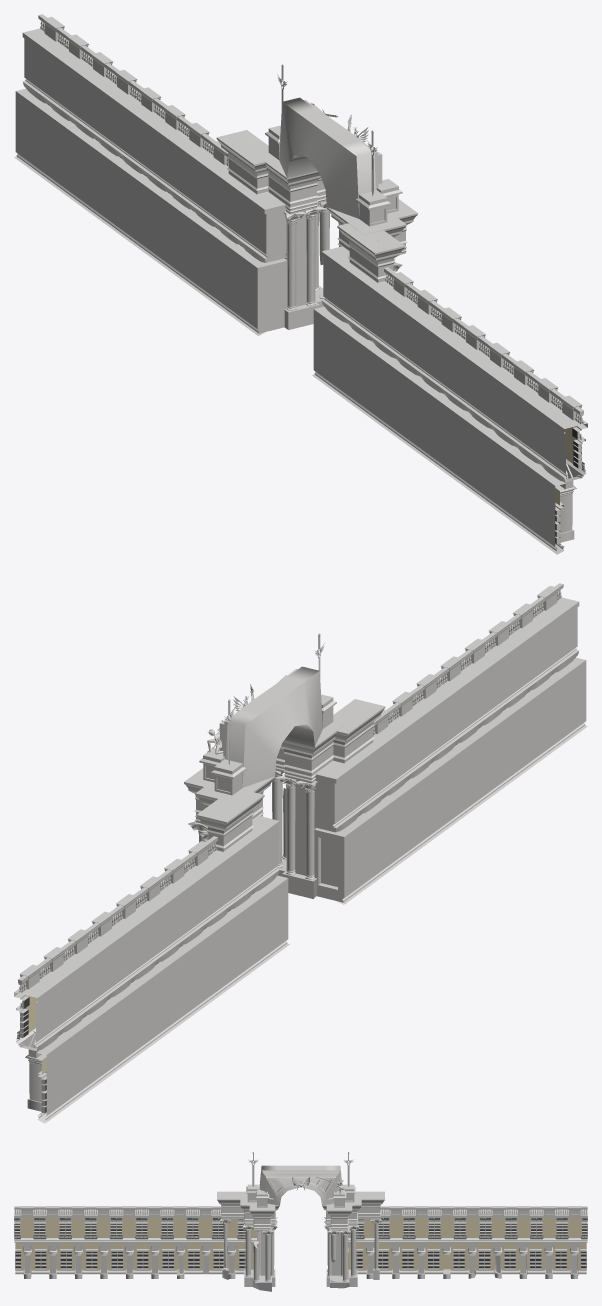
The model's file is arco.fbx.
3 views of the same model, one above another, from view 1: azimuth 30°, elevation 25°; view 2: azimuth 150°, elevation 25°; view 3: azimuth 270°, elevation 25° (orthographic). The views are drawn at different scales.
Parts seen in each view (by area): view 1: polySurface1661; view 2: polySurface1661; view 3: polySurface1661.
Part boxes in pixels (x1,y1,x2,y2): polySurface1661: [14, 14, 587, 554]; polySurface1661: [14, 583, 587, 1123]; polySurface1661: [14, 1152, 587, 1291].
Bounding box in the file's own units: 6.73 × 18.82 × 73.94.
